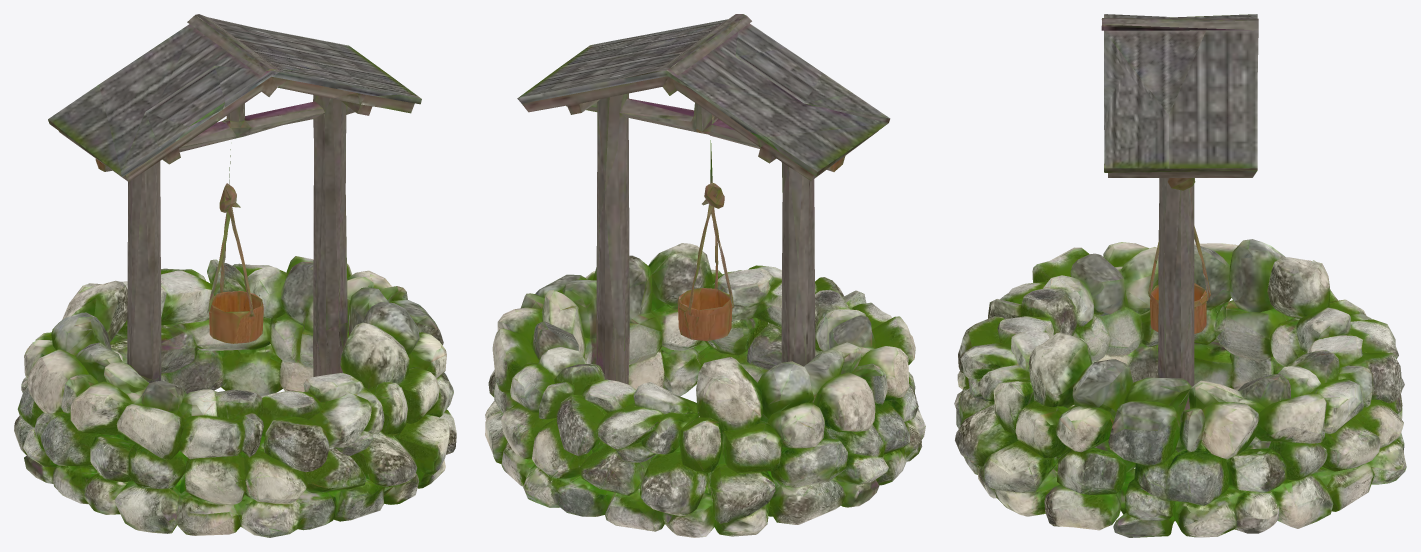
Rendered from well.glb.
3 renders of one model, left to right at view 1: azimuth 30°, elevation 25°; view 2: azimuth 150°, elevation 25°; view 3: azimuth 270°, elevation 25°, orthographic. The views are drawn at different scales.
Visible parts, largest first — view 1: Mesh_0; view 2: Mesh_0; view 3: Mesh_0.
Part boxes in pixels (bbox=[...]): Mesh_0: bbox=[14, 14, 456, 537]; Mesh_0: bbox=[485, 14, 925, 537]; Mesh_0: bbox=[954, 14, 1406, 537].
Size of the model in its own units: 1.87 by 1.9 by 1.78.
1 material, 1 textured.
